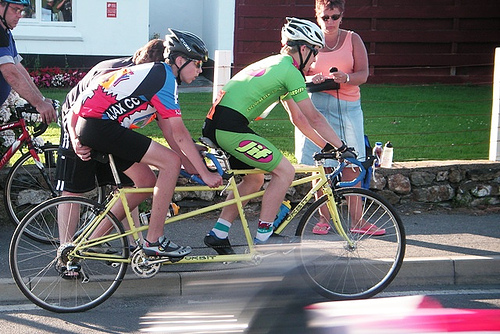without_mask: (280, 27, 321, 72), (169, 45, 206, 85), (314, 4, 344, 34), (1, 1, 31, 31)
